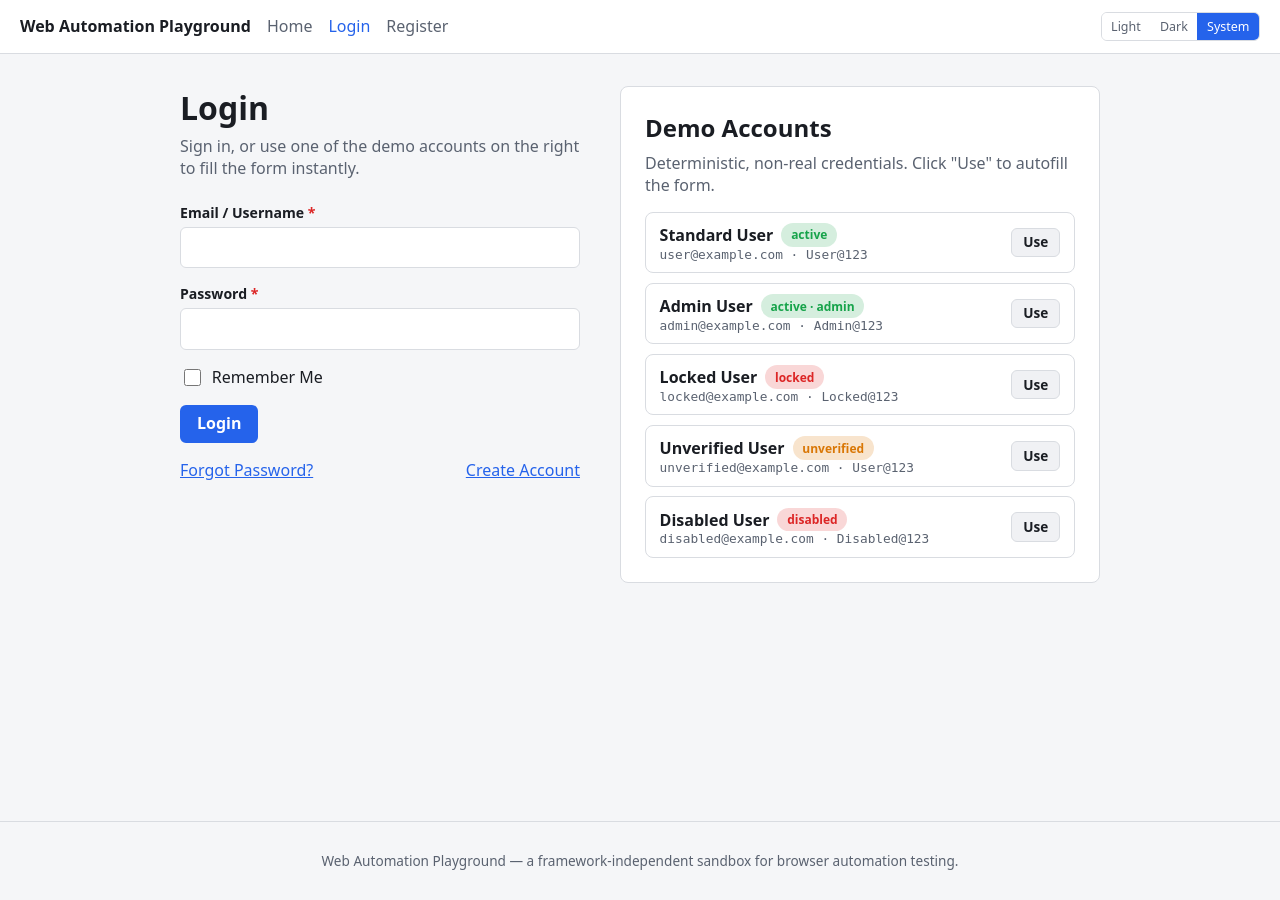
Test: Registration -> verification -> login -> logout › rejects login for a locked account
The image size is (1280, 900).
Type "locked@example.com" into the field with test id "login-email".
click(380, 248); type("locked@example.com")  # box [180,227,580,268]
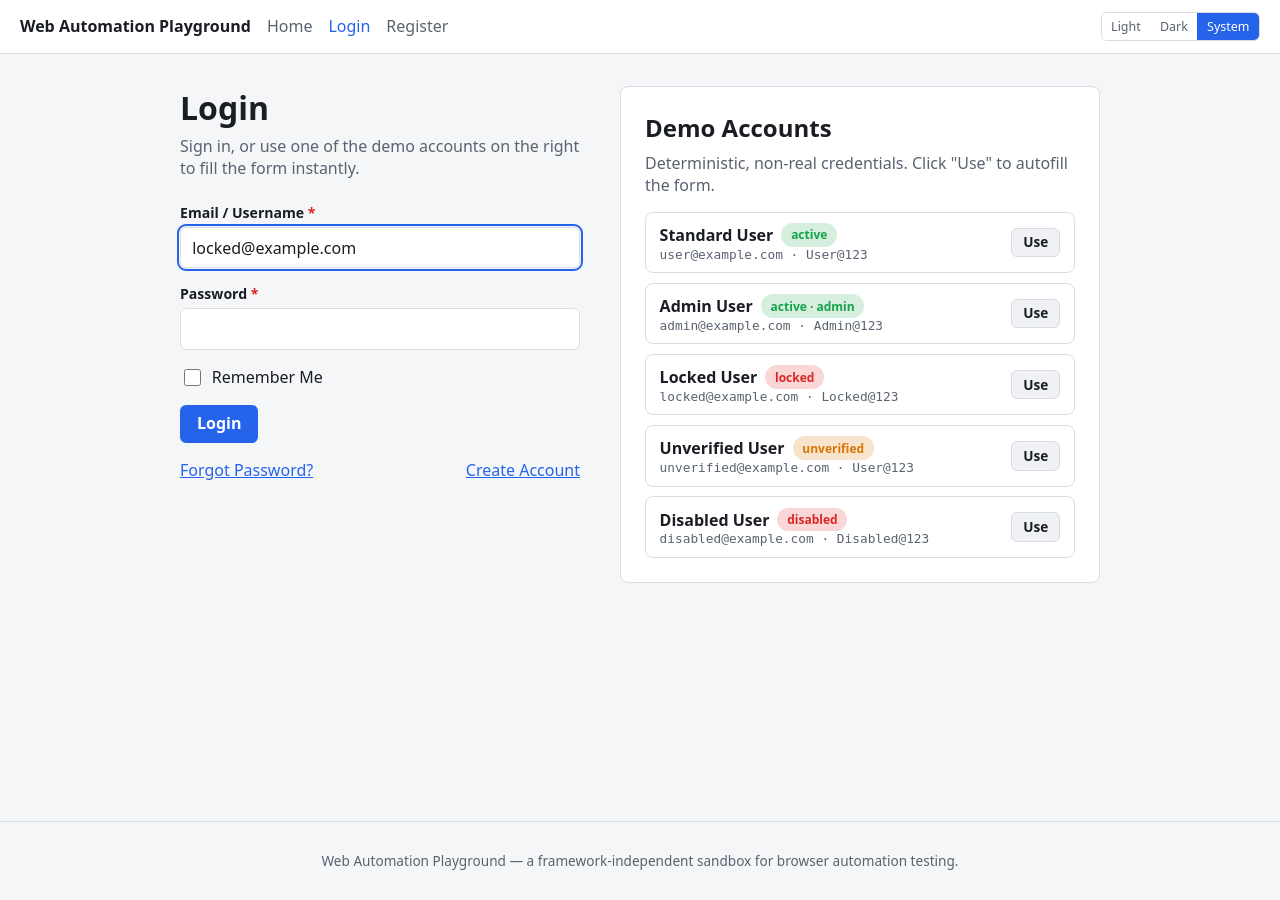
Type "Locked@123" into the password field with test id "login-password".
click(380, 329); type("Locked@123")  # box [180,308,580,350]
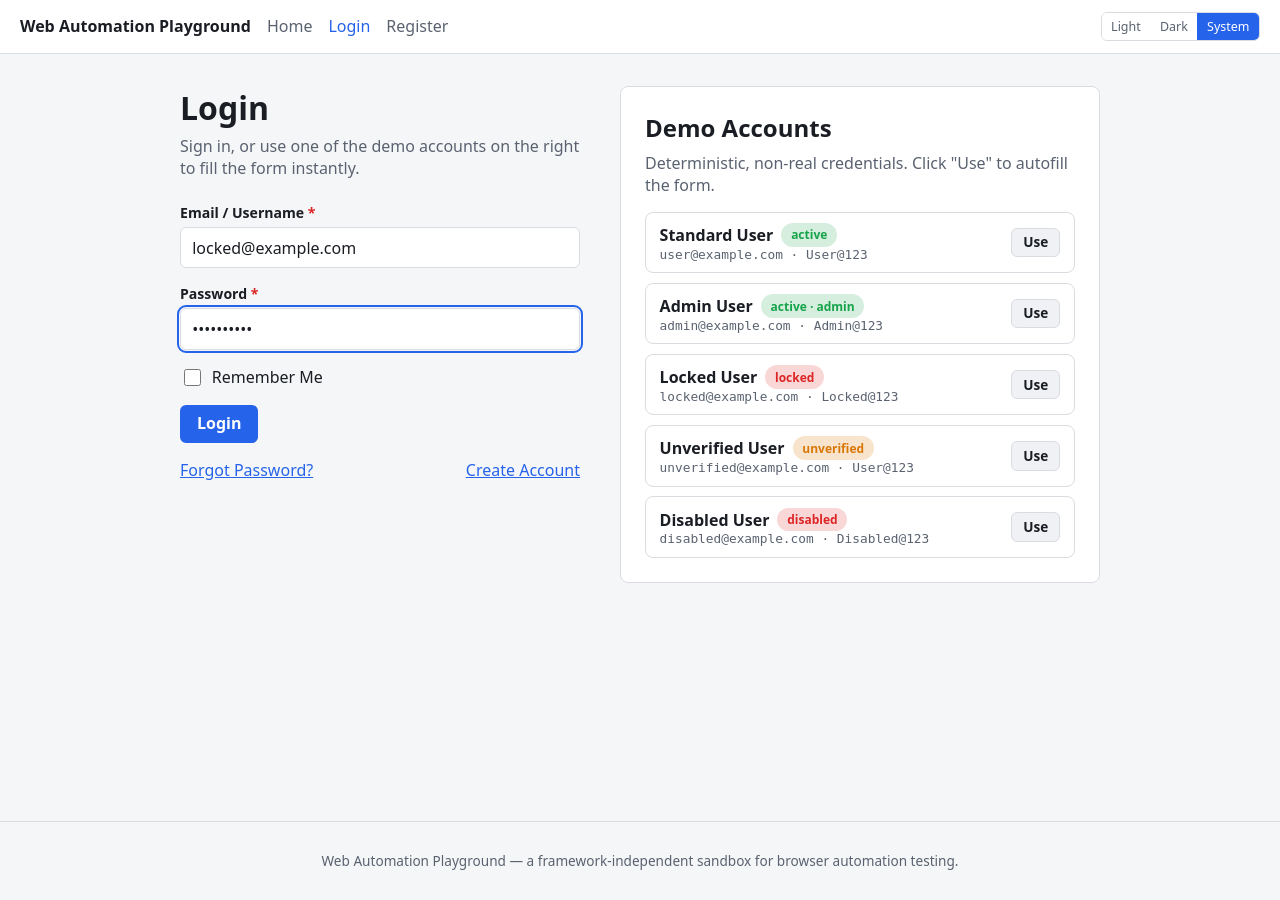
Click the button with test id "login-submit".
click(219, 424)  # box [180,405,258,443]
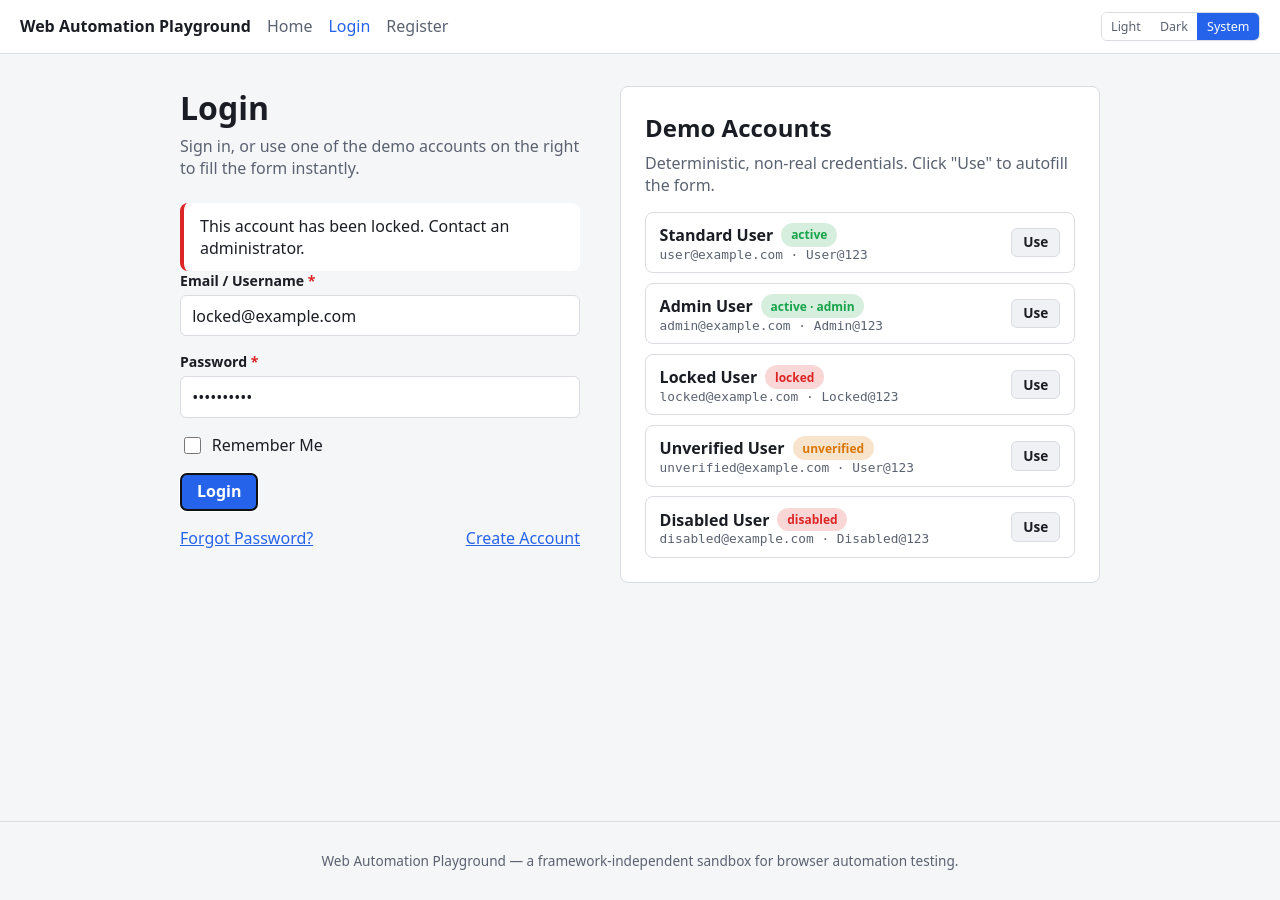
Expected: the message "This account has been locked. Contact an administrator." is shown, [180,203,580,271]
